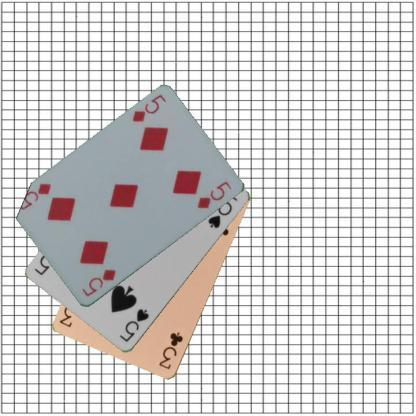3c: (156, 329, 185, 371)
5d: (79, 267, 117, 299), (129, 92, 167, 124)
5s: (117, 306, 151, 344)
